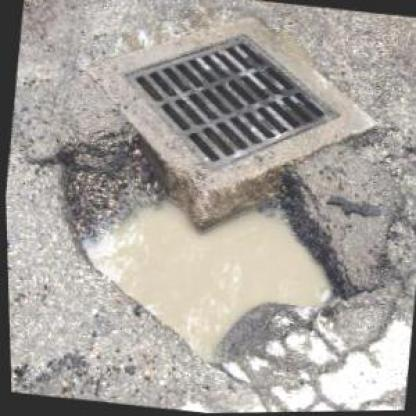pothole: (28, 114, 374, 384)
